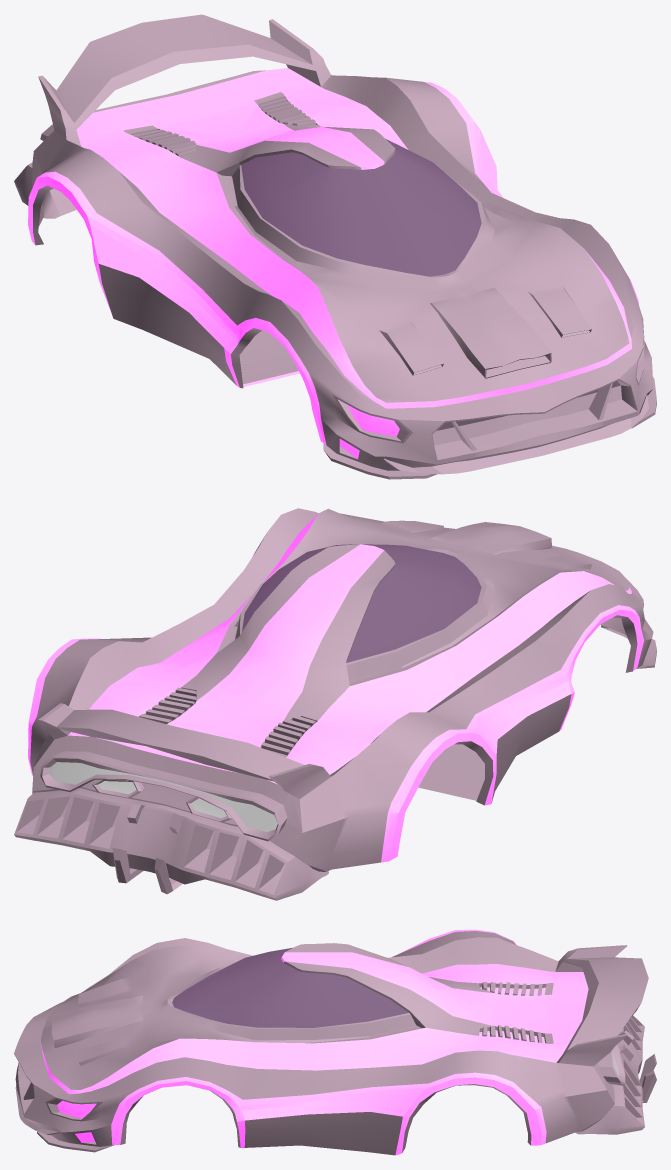
The model's file is auto_ready1.fbx.
The picture shows the model from 3 angles, top to bottom: view 1: azimuth 30°, elevation 25°; view 2: azimuth 150°, elevation 25°; view 3: azimuth 270°, elevation 25°; orthographic projection. The views are drawn at different scales.
Visible parts, largest first — view 1: Plane.044; view 2: Plane.044; view 3: Plane.044.
Boxes of the visible parts, bbox=[...] form: Plane.044: bbox=[14, 14, 656, 479]; Plane.044: bbox=[14, 508, 656, 900]; Plane.044: bbox=[14, 929, 656, 1155].
Bounding box in the file's own units: 320 × 134 × 567.
